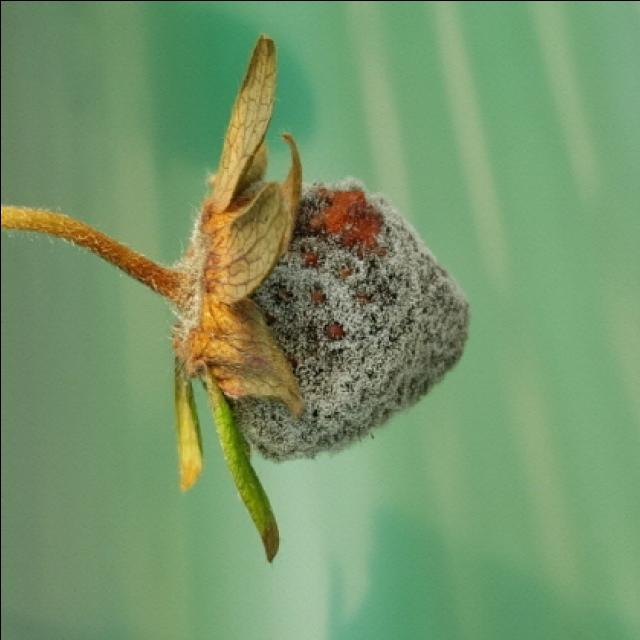Gray Mold: (171, 33, 473, 462)
